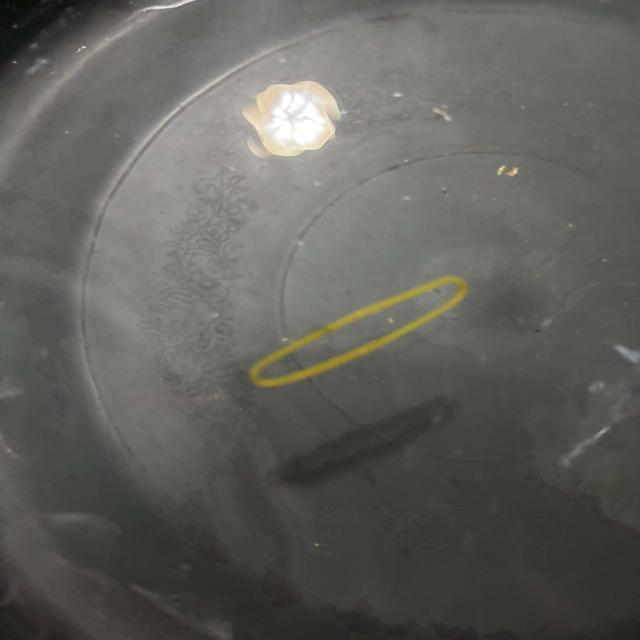Rubberband: (234, 227, 497, 429)
